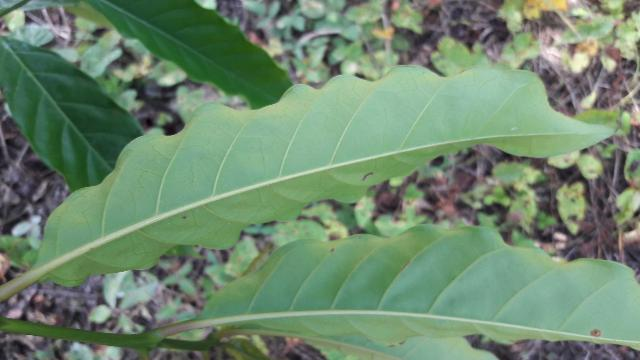healthy: (20, 63, 608, 287)
